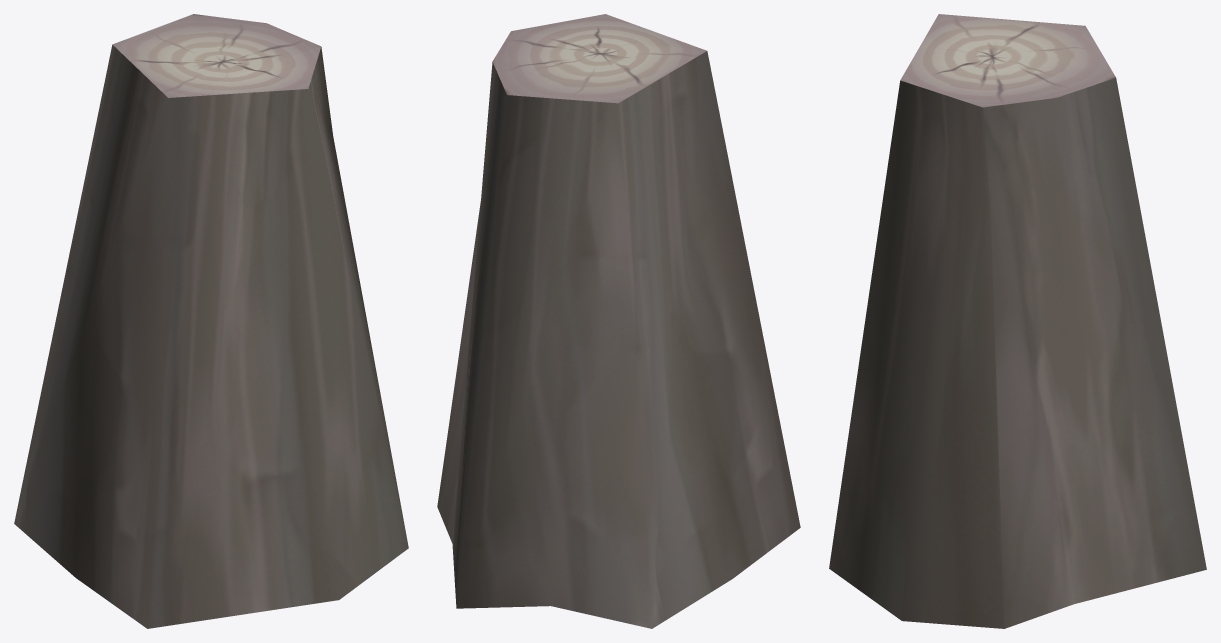
File: m_env_collect_tree_cedar_stump_02_lod2.fbx
3 views of the same model, side by side, from view 1: azimuth 30°, elevation 25°; view 2: azimuth 150°, elevation 25°; view 3: azimuth 270°, elevation 25° (orthographic).
Parts seen in each view (by area): view 1: m_env_collect_tree_cedar_stump_02_lod2; view 2: m_env_collect_tree_cedar_stump_02_lod2; view 3: m_env_collect_tree_cedar_stump_02_lod2.
Part boxes in pixels (x1,y1,x2,y2): m_env_collect_tree_cedar_stump_02_lod2: (14, 14, 408, 628); m_env_collect_tree_cedar_stump_02_lod2: (437, 14, 800, 628); m_env_collect_tree_cedar_stump_02_lod2: (829, 14, 1206, 628).
Bounding box in the file's own units: 58.37 × 92.3 × 63.55.
